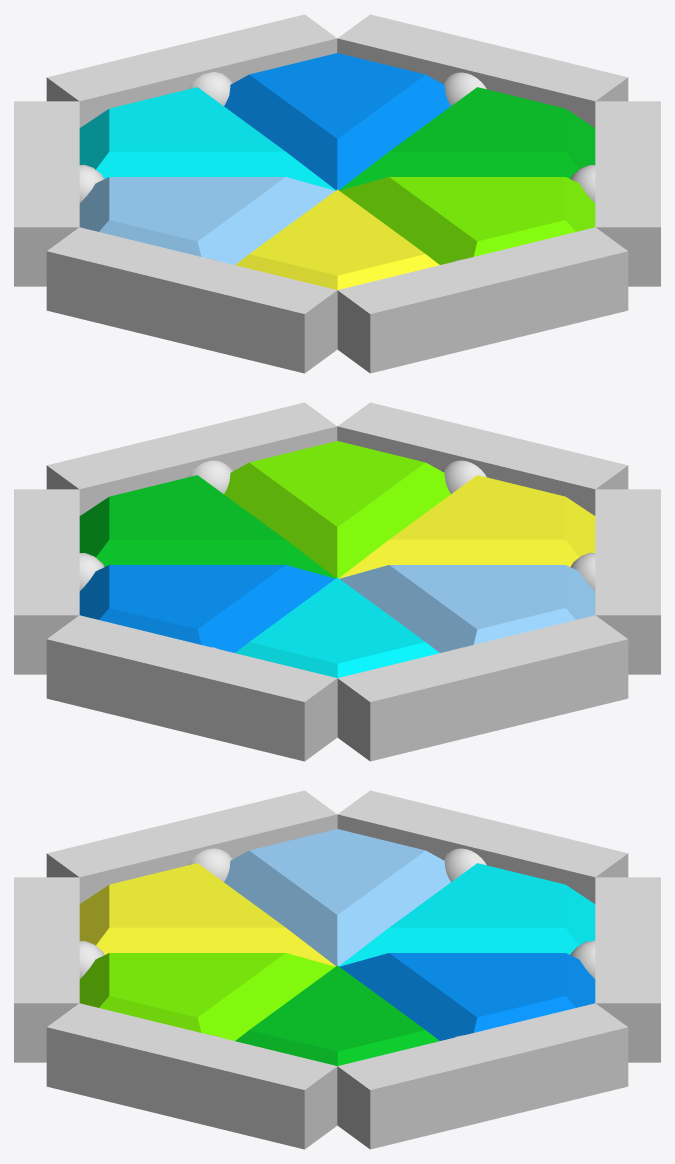
The model's file is Hexagon_QS.fbx.
3 renders of one model, top to bottom at view 1: azimuth 30°, elevation 25°; view 2: azimuth 150°, elevation 25°; view 3: azimuth 270°, elevation 25°, orthographic.
Visible parts, largest first — view 1: Side2, Side1, Cylinder_3, Cylinder_1, Cylinder_5, Cylinder_4, Cylinder_1_4, Side5, Side6, Side4, Side3, Cylinder_2 (+4 smaller); view 2: Side6, Side3, Cylinder_5, Cylinder_3, Cylinder_1, Cylinder_4, Cylinder_2, Side4, Side1, Side5, Side2, Cylinder_1_4 (+4 smaller); view 3: Side5, Side4, Cylinder_1, Cylinder_5, Cylinder_3, Cylinder_2, Cylinder_1_4, Side3, Side2, Side6, Side1, Cylinder_4 (+4 smaller).
Part boxes in pixels (x1,y1,x2,y2): Side2: [46, 227, 337, 373]; Side1: [337, 227, 628, 373]; Cylinder_3: [224, 53, 450, 190]; Cylinder_1: [79, 177, 335, 264]; Cylinder_5: [339, 177, 595, 264]; Cylinder_4: [339, 87, 595, 190]; Cylinder_1_4: [79, 87, 335, 190]; Side5: [337, 14, 628, 127]; Side6: [46, 14, 337, 127]; Side4: [595, 101, 660, 286]; Side3: [14, 101, 79, 286]; Cylinder_2: [235, 189, 439, 289]; Side6: [46, 615, 337, 761]; Side3: [337, 615, 628, 761]; Cylinder_5: [224, 441, 450, 578]; Cylinder_3: [79, 565, 335, 652]; Cylinder_1: [339, 565, 595, 652]; Cylinder_4: [79, 475, 335, 578]; Cylinder_2: [339, 475, 595, 578]; Side4: [46, 402, 337, 515]; Side1: [337, 402, 628, 515]; Side5: [14, 489, 79, 674]; Side2: [595, 489, 660, 674]; Cylinder_1_4: [235, 577, 439, 677]; Side5: [337, 1003, 628, 1149]; Side4: [46, 1003, 337, 1149]; Cylinder_1: [224, 829, 450, 966]; Cylinder_5: [79, 953, 335, 1040]; Cylinder_3: [339, 953, 595, 1040]; Cylinder_2: [79, 863, 335, 966]; Cylinder_1_4: [339, 863, 595, 966]; Side3: [337, 790, 628, 903]; Side2: [46, 790, 337, 903]; Side6: [595, 877, 660, 1062]; Side1: [14, 877, 79, 1062]; Cylinder_4: [235, 965, 439, 1065].
Size of what is drawn, in the model's own units: 238 by 22 by 217.
